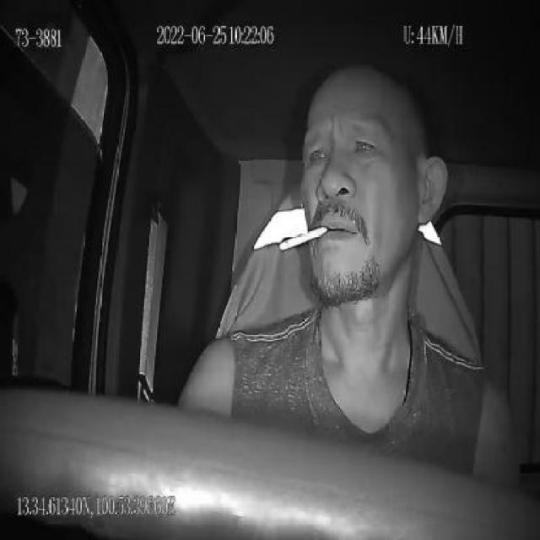smoking: (278, 225, 328, 253)
